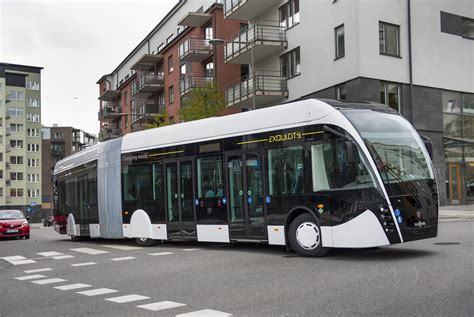bus: (53, 102, 437, 245)
car: (1, 209, 29, 236)
